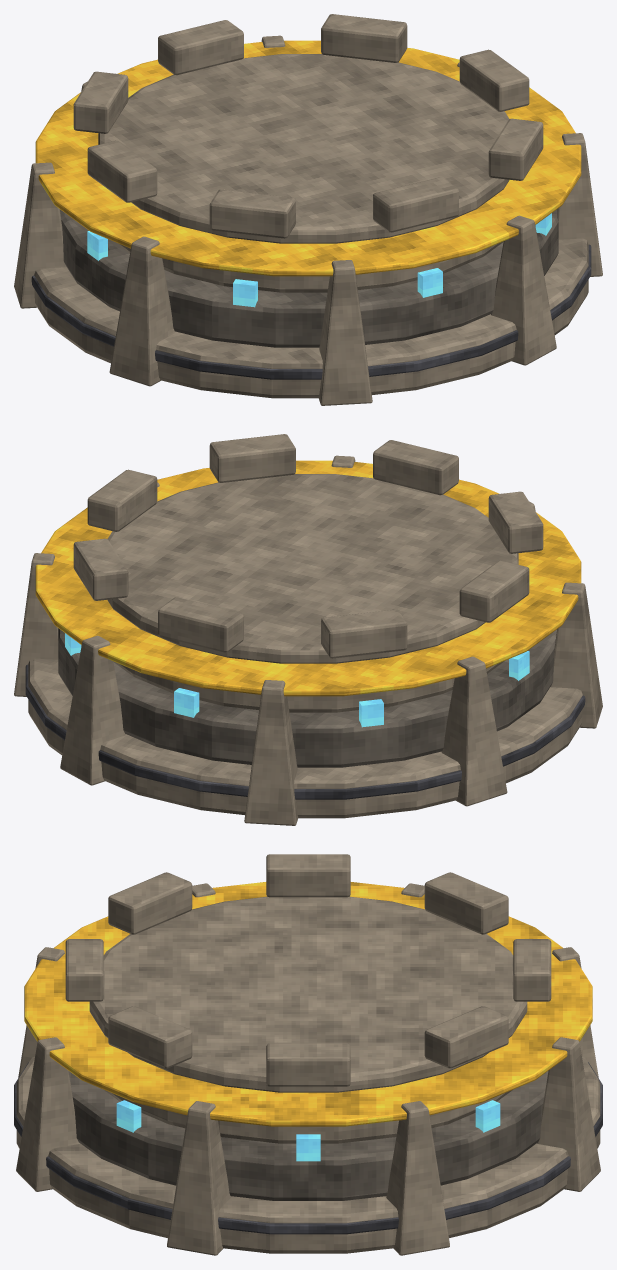
The model's file is base_tiered.gltf.
The picture shows the model from 3 angles, top to bottom: view 1: azimuth 30°, elevation 25°; view 2: azimuth 150°, elevation 25°; view 3: azimuth 270°, elevation 25°; orthographic projection. The views are drawn at different scales.
Visible parts, largest first — view 1: base_tiered_stone_lite, Tier3_stone_lite, Tier4_gold, base_tiered_stone, Tier2_iron, Tier4_rune; view 2: base_tiered_stone_lite, Tier3_stone_lite, Tier4_gold, base_tiered_stone, Tier2_iron, Tier4_rune; view 3: base_tiered_stone_lite, Tier3_stone_lite, Tier4_gold, base_tiered_stone, Tier2_iron, Tier4_rune.
Boxes of the visible parts, bbox=[...] form: base_tiered_stone_lite: bbox=[34, 54, 588, 398]; Tier3_stone_lite: bbox=[14, 14, 602, 405]; Tier4_gold: bbox=[35, 40, 581, 276]; base_tiered_stone: bbox=[60, 208, 558, 347]; Tier2_iron: bbox=[31, 244, 591, 379]; Tier4_rune: bbox=[87, 213, 551, 307]; base_tiered_stone_lite: bbox=[28, 474, 582, 818]; Tier3_stone_lite: bbox=[14, 434, 602, 825]; Tier4_gold: bbox=[35, 460, 581, 696]; base_tiered_stone: bbox=[58, 628, 556, 767]; Tier2_iron: bbox=[25, 664, 585, 799]; Tier4_rune: bbox=[65, 633, 529, 727]; base_tiered_stone_lite: bbox=[16, 896, 600, 1253]; Tier3_stone_lite: bbox=[16, 854, 600, 1255]; Tier4_gold: bbox=[24, 882, 592, 1126]; base_tiered_stone: bbox=[68, 1071, 548, 1200]; Tier2_iron: bbox=[14, 1062, 602, 1234]; Tier4_rune: bbox=[116, 1100, 500, 1161].
Size of the model in its own units: 1.08 by 0.36 by 1.08.
5 materials, 5 textured.
